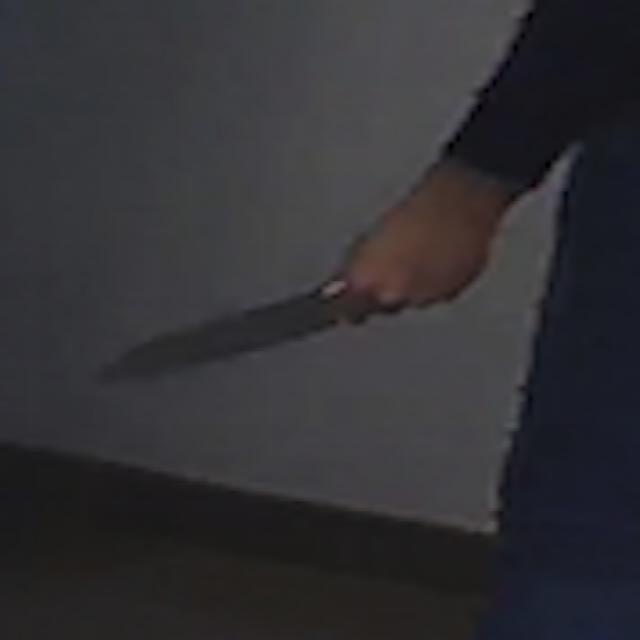suspicion: (85, 4, 599, 618), (88, 291, 336, 394)
